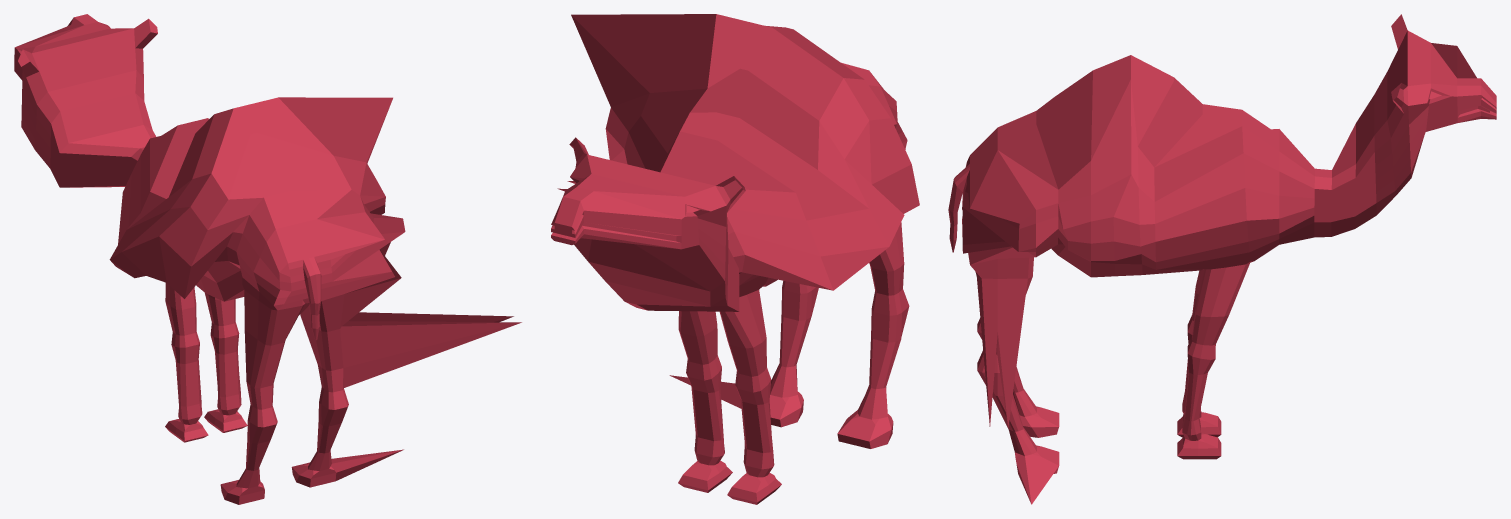
The model's file is _camel-low-poly.fbx.
3 renders of one model, left to right at view 1: azimuth 30°, elevation 25°; view 2: azimuth 150°, elevation 25°; view 3: azimuth 270°, elevation 25°, orthographic. The views are drawn at different scales.
Parts seen in each view (by area): view 1: Plane; view 2: Plane; view 3: Plane.
Boxes of the visible parts, bbox=[...] form: Plane: bbox=[14, 14, 521, 504]; Plane: bbox=[551, 14, 919, 504]; Plane: bbox=[948, 14, 1496, 504].
Bounding box in the file's own units: 0.2654 × 0.2646 × 0.336.
